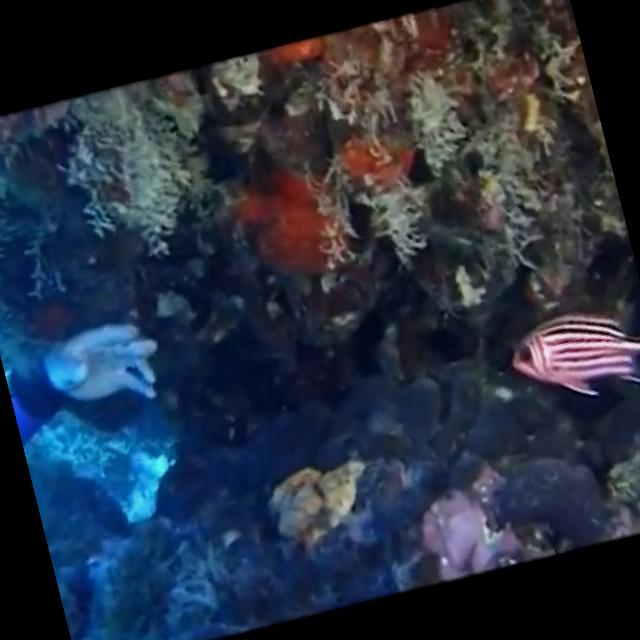Asker Baligi: (498, 289, 640, 420)
